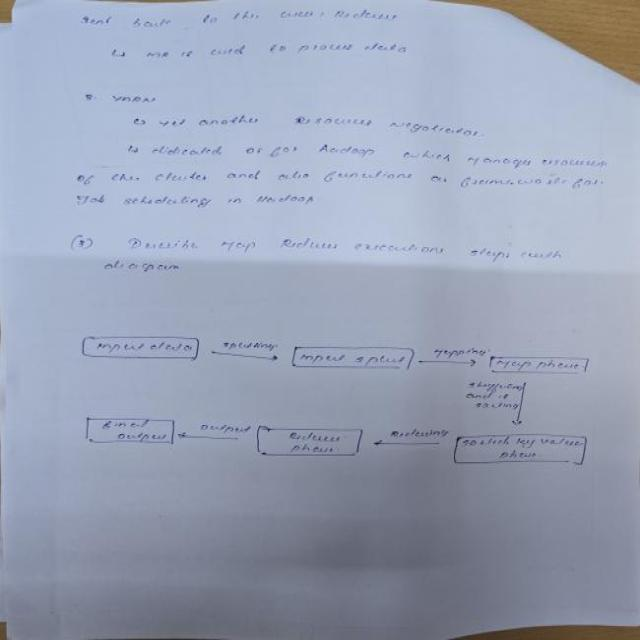Figure Detection - v3 Dataset Version2: (54, 320, 616, 498)
